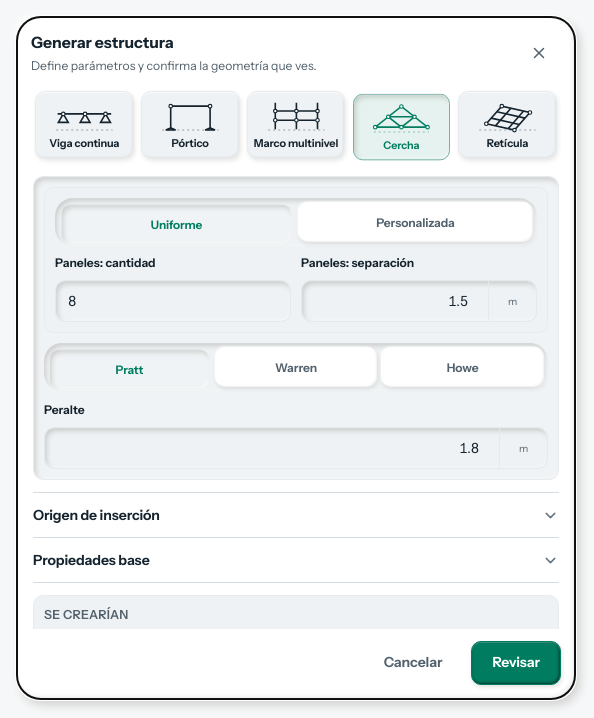
Test: parámetros por familia › sólo deja quitar montantes en la Warren, que es la única que puede prescindir de ellos
Click the radio button labelled "Warren". click: (296, 367)
box: [215,347,377,387]
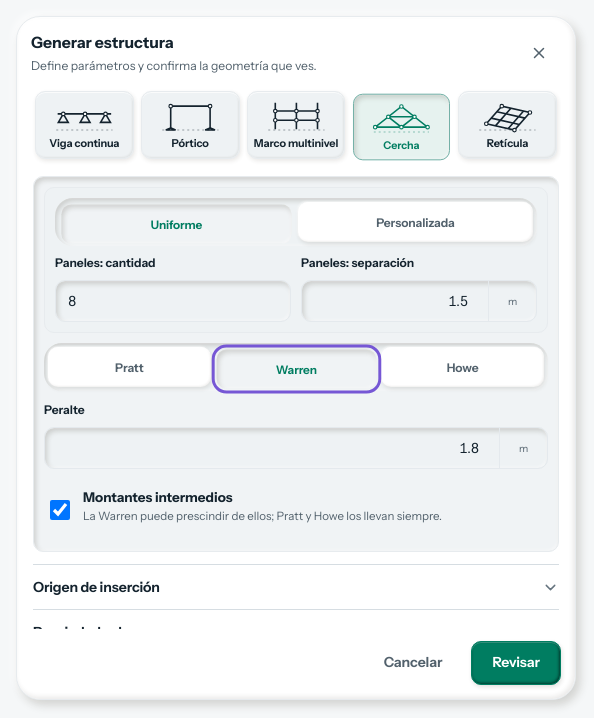
Expected: the checkbox labelled "Montantes" is shown, [50,490,70,530]
